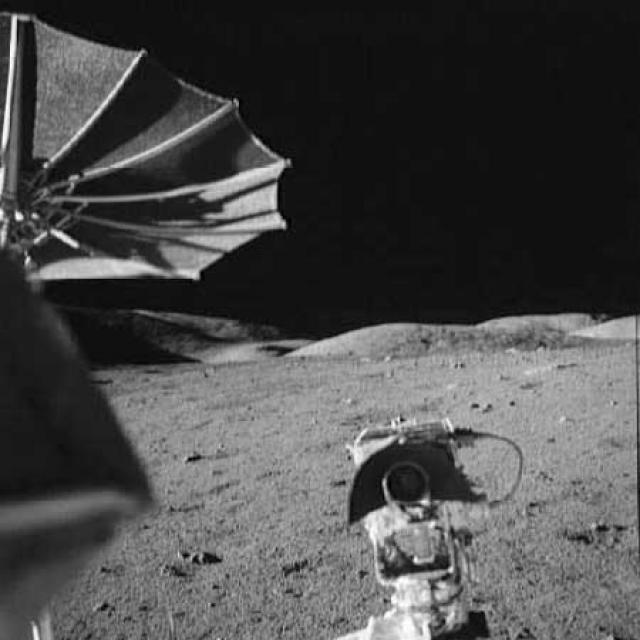artifact: (0, 4, 297, 639), (331, 410, 525, 638)
crater: (340, 395, 468, 425), (198, 392, 286, 414)
